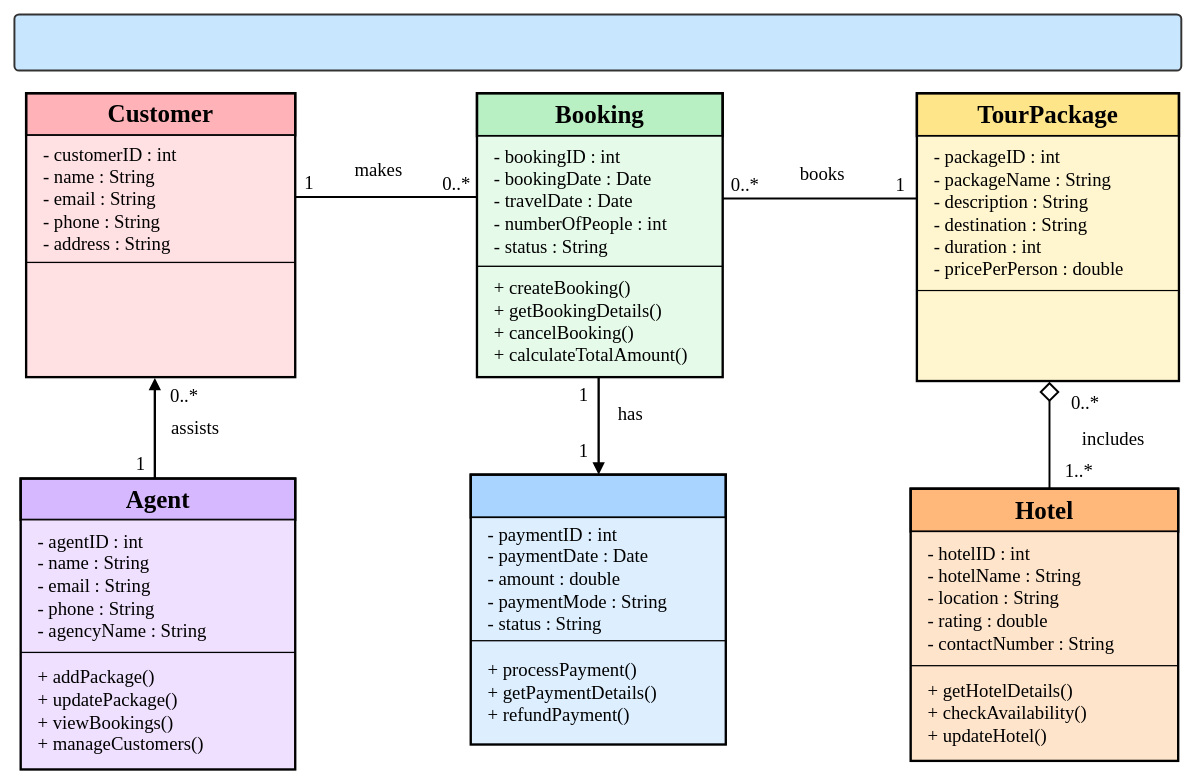
This 1196x784 diagram has some shape labels left out. The shapes that lost their labels are listed below. From the top down, each one's box as (x1, y1, x2, y2) in pixels, then its label:
(13, 13, 1182, 71): Q20. Travel Agency System – Class Diagram
(25, 262, 295, 377): + searchPackages() + makeBooking() + cancelBooking() + viewBookings()
(916, 290, 1179, 381): + getPackageDetails() + checkAvailability() + updatePackage()
(469, 473, 727, 518): Payment
